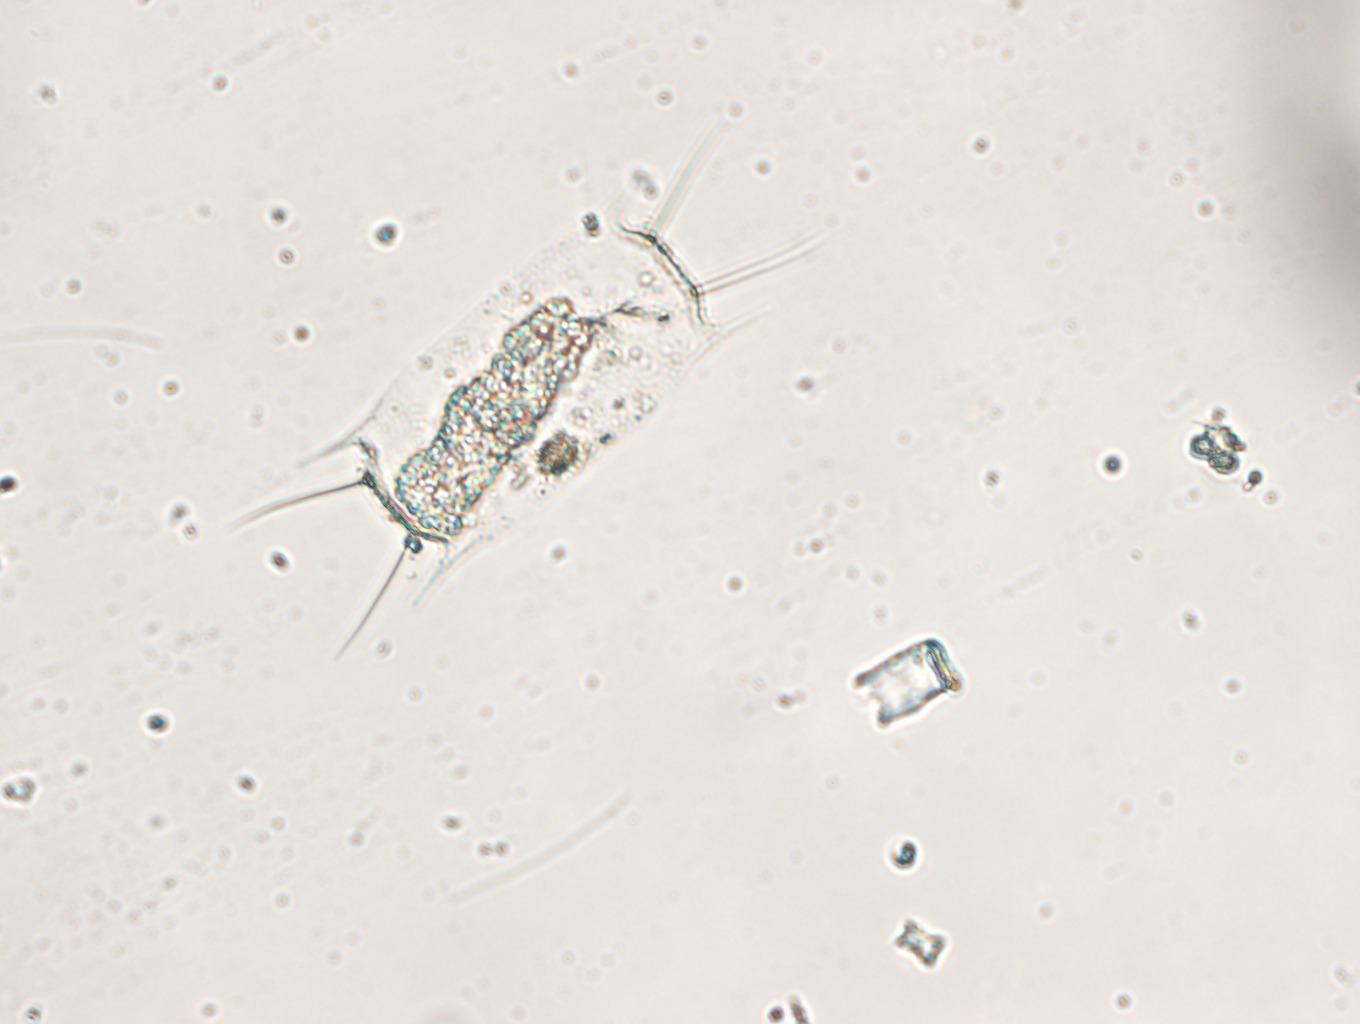biddulphia: (264, 139, 808, 650)
